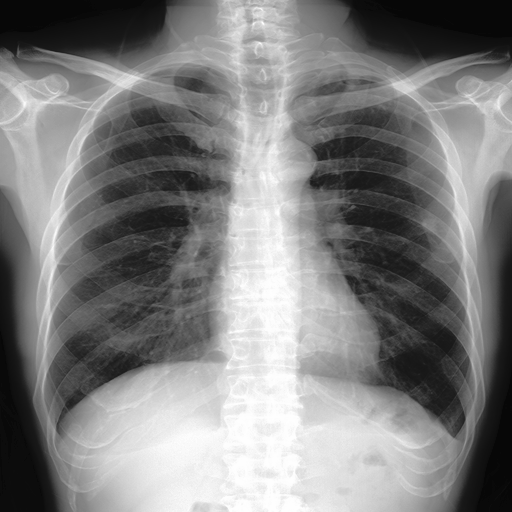Calcification: (329, 62, 396, 77)
Pneumothorax: (336, 64, 391, 106), (343, 76, 357, 95)
